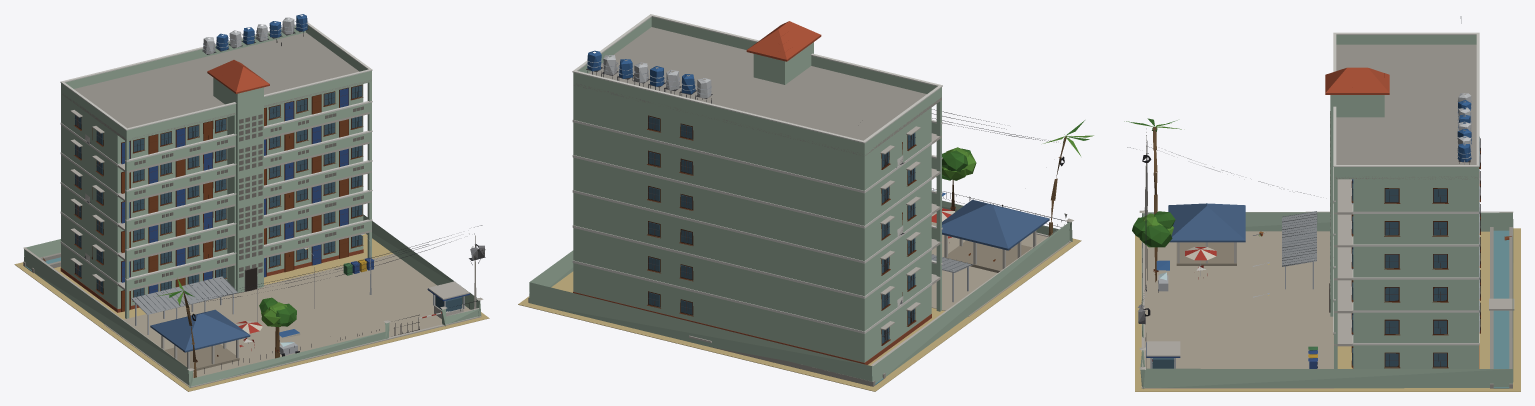
File: home_5.glb
3 views of the same model, side by side, from view 1: azimuth 30°, elevation 25°; view 2: azimuth 150°, elevation 25°; view 3: azimuth 270°, elevation 25° (orthographic). The views are drawn at different scales.
Parts seen in each view (by area): view 1: body, windows; view 2: body, windows; view 3: body, windows.
Boxes of the visible parts, x1,y1,x2,y2 form: body: [14, 14, 489, 391]; windows: [75, 85, 462, 311]; body: [518, 14, 1093, 391]; windows: [648, 116, 915, 343]; body: [1124, 16, 1520, 391]; windows: [1152, 137, 1479, 368].
Size of the model in its own units: 33.73 by 22.43 by 32.88.
